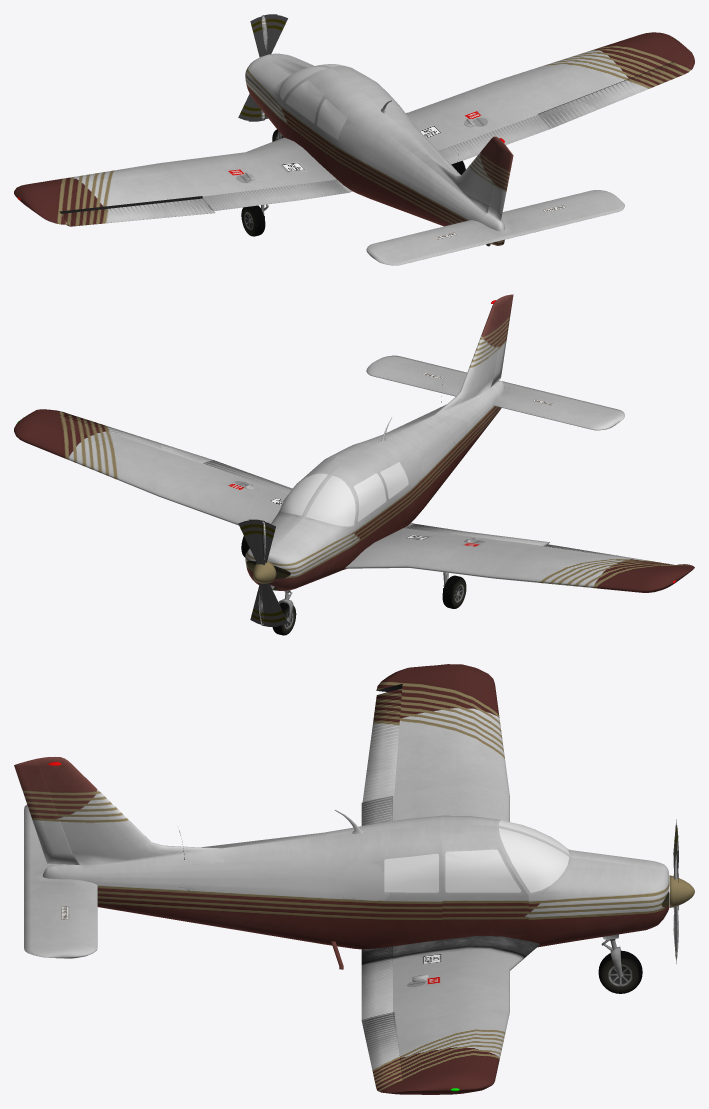
3 views of the same model, one above another, from view 1: azimuth 30°, elevation 25°; view 2: azimuth 150°, elevation 25°; view 3: azimuth 270°, elevation 25° (orthographic). The views are drawn at different scales.
Parts seen in each view (by area): view 1: ailes, fuselage, ailes2, aileronD, voletG, aileronG, vitres, voletD, direction, propdisc, trous, roueG (+1 smaller); view 2: ailes, fuselage, ailes2, vitres, propdisc, aileronD, propblur, voletG, voletD, direction, roueG; view 3: fuselage, ailes, ailes2, vitres, porteG, aileronG, direction, vitreporteG, aileronD, voletD, roueA, voletG.
Part boxes in pixels (left/top/right/bottom): ailes: left=14, top=32, right=694, bottom=224; fuselage: left=245, top=53, right=505, bottom=245; ailes2: left=366, top=190, right=624, bottom=265; aileronD: left=538, top=62, right=684, bottom=128; voletG: left=202, top=179, right=348, bottom=210; aileronG: left=61, top=198, right=215, bottom=226; vitres: left=279, top=64, right=347, bottom=139; voletD: left=438, top=115, right=549, bottom=164; direction: left=488, top=144, right=513, bottom=220; propdisc: left=238, top=15, right=287, bottom=120; trous: left=59, top=61, right=673, bottom=213; roueG: left=241, top=205, right=265, bottom=236; ailes: left=14, top=409, right=694, bottom=592; fuselage: left=245, top=296, right=505, bottom=590; ailes2: left=366, top=355, right=624, bottom=430; vitres: left=279, top=462, right=408, bottom=526; propdisc: left=238, top=520, right=287, bottom=626; aileronD: left=60, top=413, right=213, bottom=463; propblur: left=249, top=519, right=277, bottom=626; voletG: left=404, top=524, right=549, bottom=545; voletD: left=203, top=460, right=292, bottom=494; direction: left=492, top=294, right=513, bottom=385; roueG: left=442, top=575, right=466, bottom=608; fuselage: left=37, top=757, right=669, bottom=949; ailes: left=361, top=664, right=539, bottom=1094; ailes2: left=24, top=804, right=97, bottom=958; vitres: left=384, top=820, right=569, bottom=892; porteG: left=442, top=834, right=528, bottom=929; aileronG: left=362, top=688, right=401, bottom=802; direction: left=14, top=758, right=76, bottom=864; vitreporteG: left=445, top=849, right=521, bottom=892; aileronD: left=361, top=1012, right=402, bottom=1088; voletD: left=361, top=946, right=392, bottom=1019; roueA: left=598, top=950, right=642, bottom=993; voletG: left=361, top=796, right=392, bottom=825.
Size of the model in its own units: 10.55 by 2.73 by 7.15.
5 materials, 2 textured.
